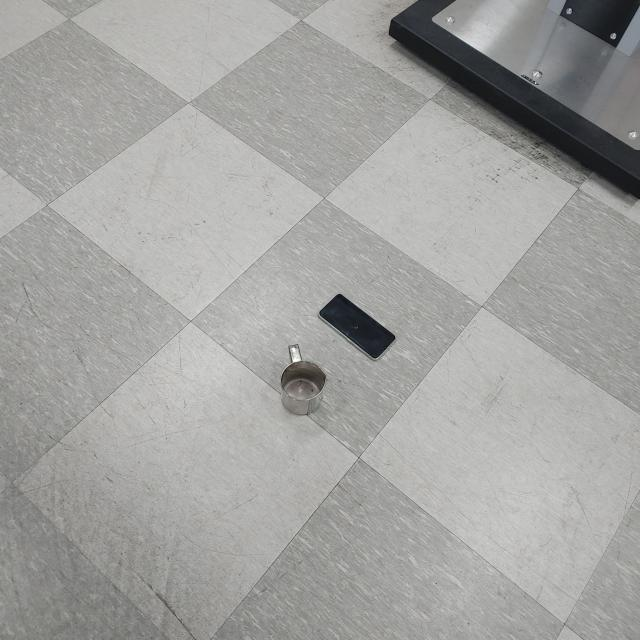cup: (279, 342, 327, 418)
phone: (318, 292, 397, 361)
